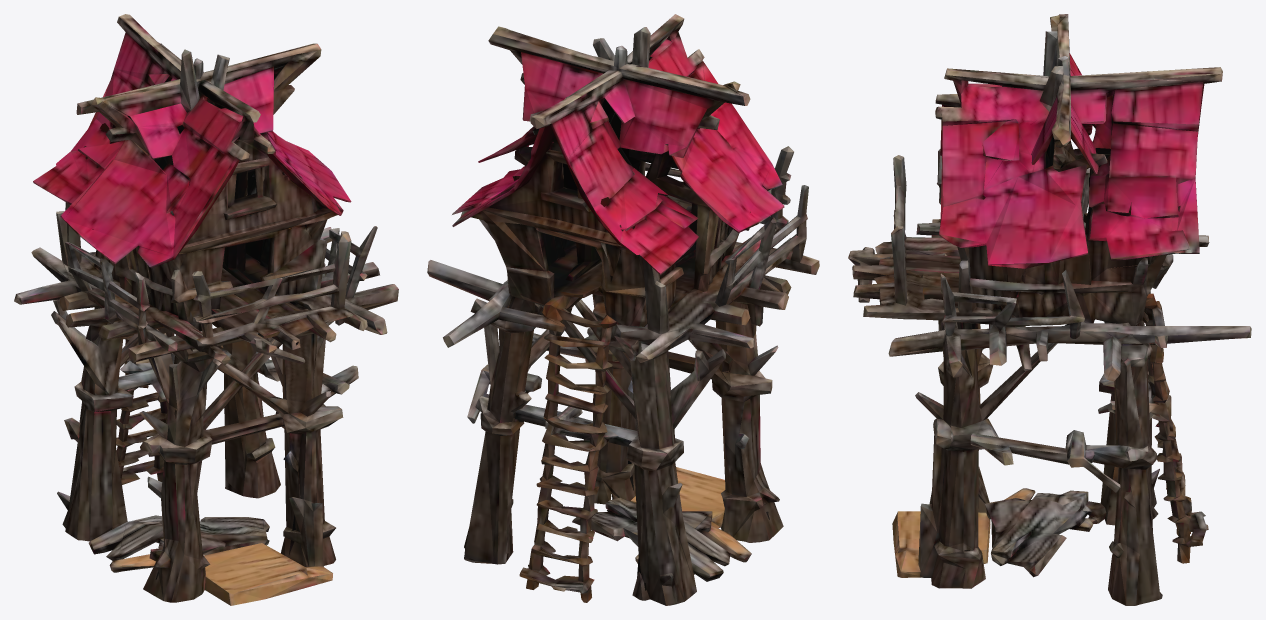
The model's file is orc_watchtower_01.glb.
3 views of the same model, side by side, from view 1: azimuth 30°, elevation 25°; view 2: azimuth 150°, elevation 25°; view 3: azimuth 270°, elevation 25° (orthographic). The views are drawn at different scales.
Parts seen in each view (by area): view 1: geometry_0; view 2: geometry_0; view 3: geometry_0.
Part boxes in pixels (x1,y1,x2,y2): geometry_0: (14, 14, 398, 605); geometry_0: (427, 14, 819, 605); geometry_0: (848, 14, 1251, 605).
Bounding box in the file's own units: 0.6613 × 0.9983 × 0.7141.
Materials: 1 (1 with a texture image).
